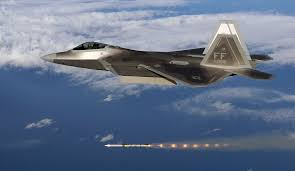fighter: (38, 18, 277, 87)
